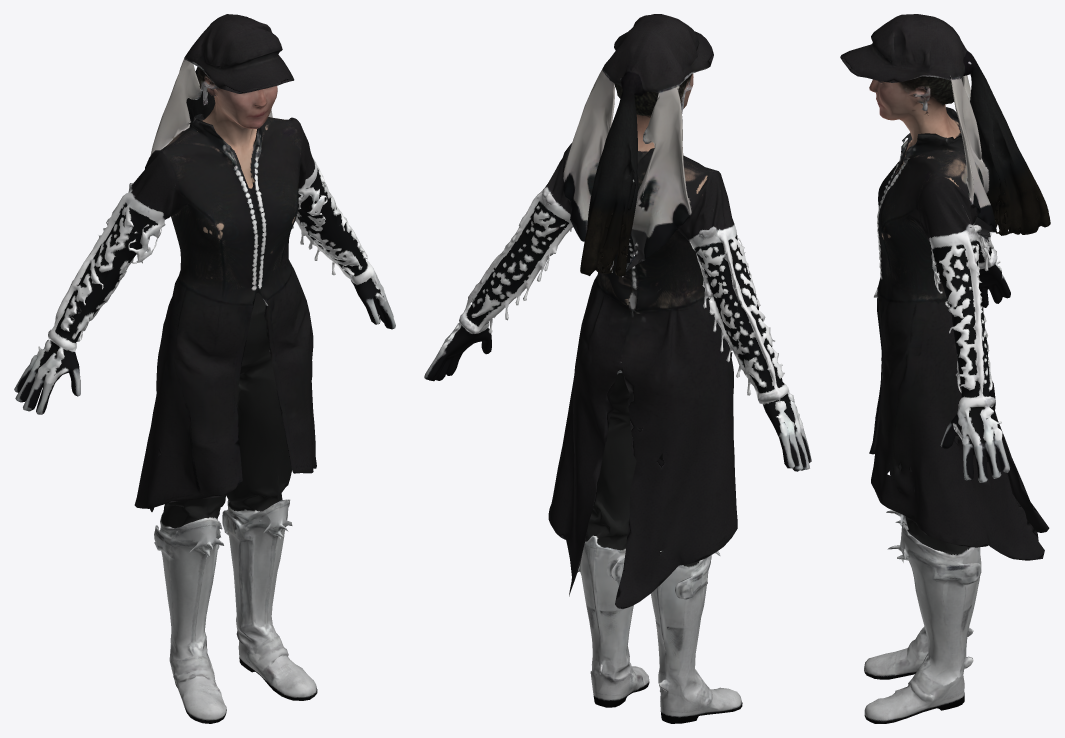
Rendered from blimp-dowager_body.glb.
The picture shows the model from 3 angles, left to right: view 1: azimuth 30°, elevation 25°; view 2: azimuth 150°, elevation 25°; view 3: azimuth 270°, elevation 25°; orthographic projection. The views are drawn at different scales.
Parts seen in each view (by area): view 1: blimp-dowager; view 2: blimp-dowager; view 3: blimp-dowager.
Part boxes in pixels (<box>): blimp-dowager: <box>14,14,395,723</box>; blimp-dowager: <box>424,14,811,723</box>; blimp-dowager: <box>840,14,1050,723</box>.
Bounding box in the file's own units: 0.978 × 1.7 × 0.4778.
Materials: 2 (2 with a texture image).
